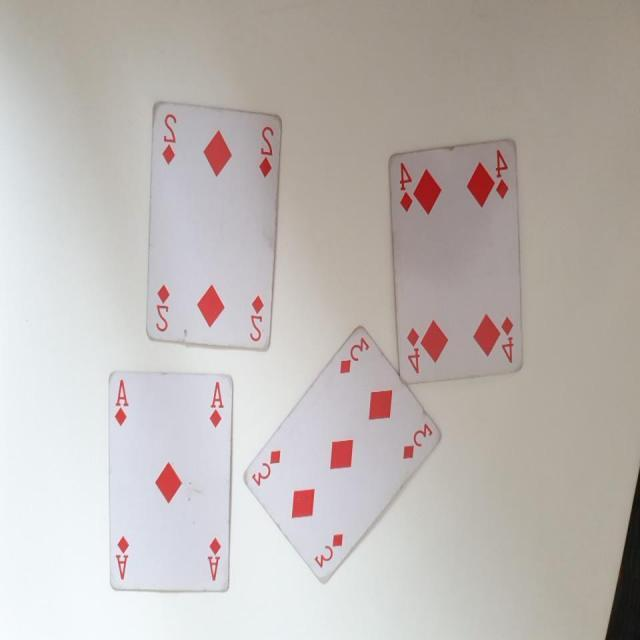2 of diamonds: (146, 108, 284, 354)
3 of diamonds: (237, 322, 443, 586)
4 of diamonds: (390, 134, 526, 388)
ace of diamonds: (98, 362, 239, 602)
